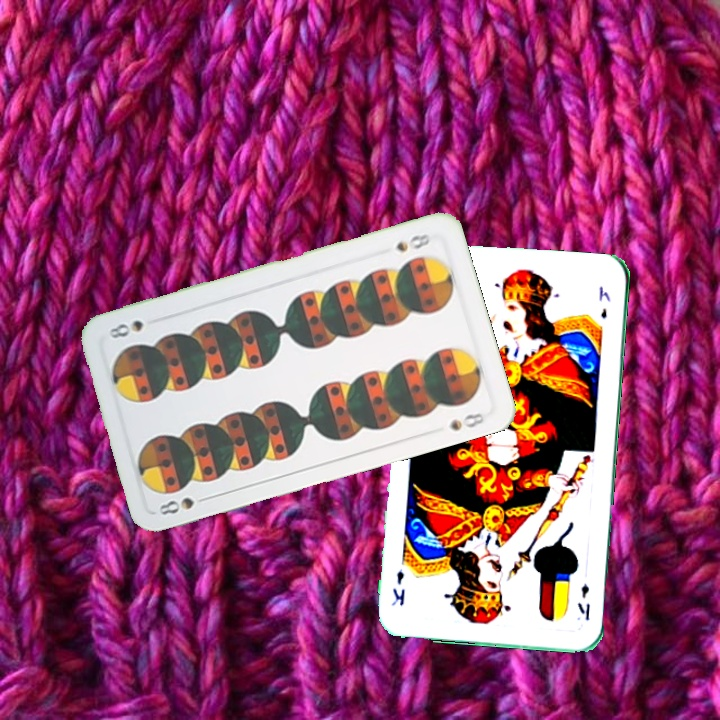EK: (573, 579, 593, 622)
S8: (154, 490, 213, 518), (391, 229, 437, 255)
